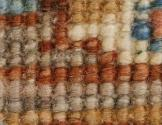Knot: (7, 41, 21, 52), (49, 111, 66, 120), (83, 86, 98, 96), (24, 14, 37, 24), (10, 14, 21, 25), (83, 74, 98, 82), (23, 2, 37, 10), (39, 2, 50, 12), (39, 43, 50, 52), (38, 52, 49, 61), (38, 68, 50, 76), (10, 56, 21, 64), (133, 118, 144, 123), (126, 119, 133, 123)
